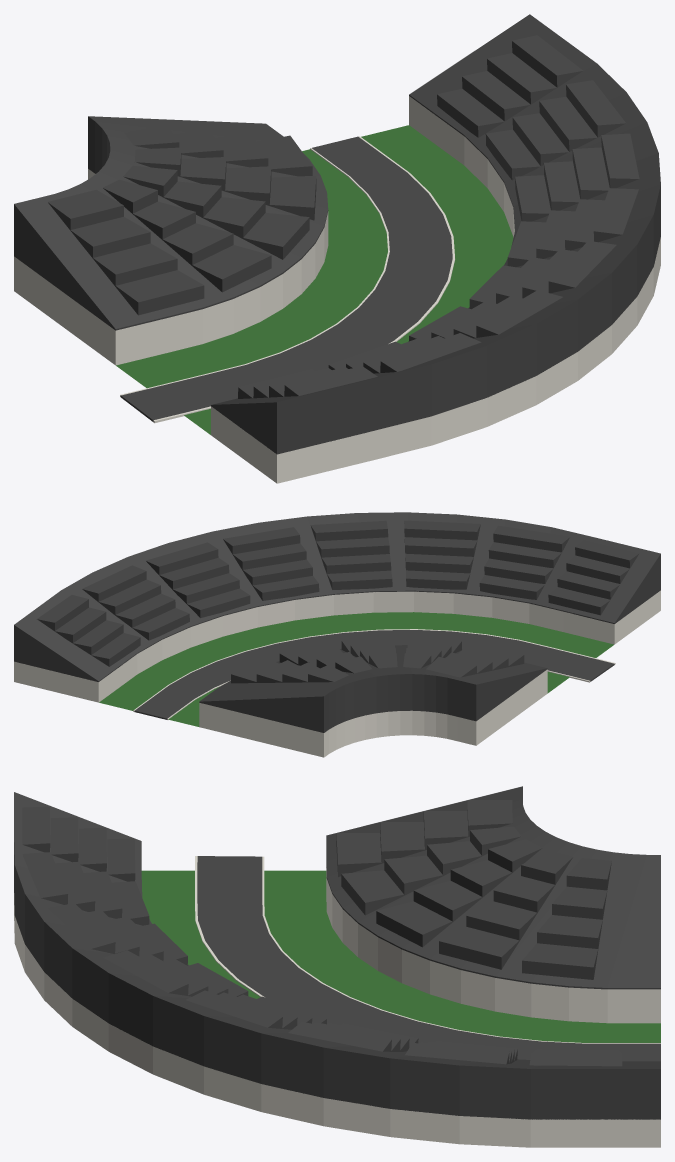
Rendered from Track_Final_02.fbx.
The picture shows the model from 3 angles, top to bottom: view 1: azimuth 30°, elevation 25°; view 2: azimuth 150°, elevation 25°; view 3: azimuth 270°, elevation 25°; orthographic projection. The views are drawn at different scales.
Visible parts, largest first — view 1: outer_Seats, outer_Stadium, Left_Inner_Stadium.001, outer_Paltform, Left_Inner_platform, leftRoad, Left_Inner_Stadium, staright; view 2: outer_Seats, outer_Paltform, outer_Stadium, Left_Inner_Stadium, Left_Inner_platform, Left_Inner_Stadium.001, leftRoad, staright; view 3: outer_Stadium, Left_Inner_Stadium.001, Left_Inner_platform, outer_Seats, outer_Paltform, Left_Inner_Stadium, leftRoad, staright.
Boxes of the visible parts, x1,y1,x2,y2 form: outer_Seats: (238,35,639,398); outer_Stadium: (211,14,660,454); Left_Inner_Stadium.001: (48,125,316,315); outer_Paltform: (184,96,660,483); Left_Inner_platform: (14,149,387,388); leftRoad: (148,136,455,415); Left_Inner_Stadium: (14,116,328,330); staright: (120,388,183,423); outer_Seats: (37,520,638,666); outer_Paltform: (14,590,660,710); outer_Stadium: (14,512,660,681); Left_Inner_Stadium: (199,645,547,732); Left_Inner_platform: (168,669,569,757); Left_Inner_Stadium.001: (231,637,524,683); leftRoad: (133,629,594,719); staright: (570,658,615,682); outer_Stadium: (14,792,660,1119); Left_Inner_Stadium.001: (336,800,611,979); Left_Inner_platform: (264,868,660,1042); outer_Seats: (22,806,622,1066); outer_Paltform: (14,870,660,1147); Left_Inner_Stadium: (326,786,660,989); leftRoad: (195,869,660,1061); staright: (195,856,264,869).
Size of the model in its own units: 44346 by 6069 by 41704.
